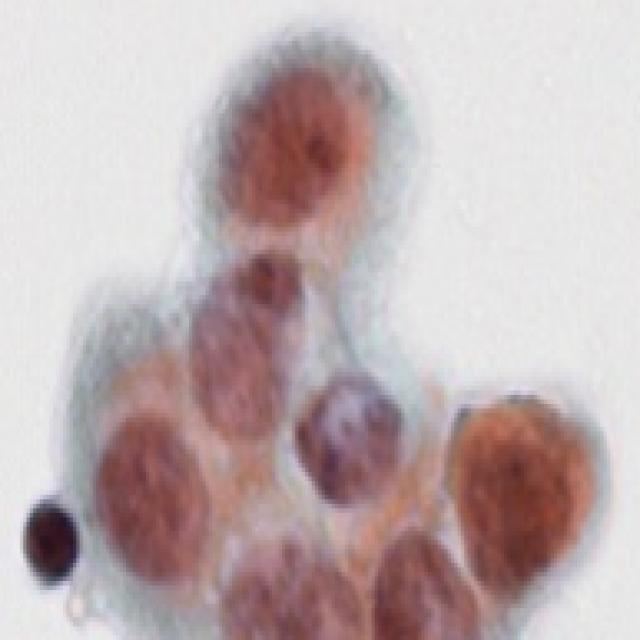cytoplasm: (223, 299, 473, 568), (186, 28, 433, 298)
nucleus: (179, 43, 386, 251), (273, 364, 431, 522)
